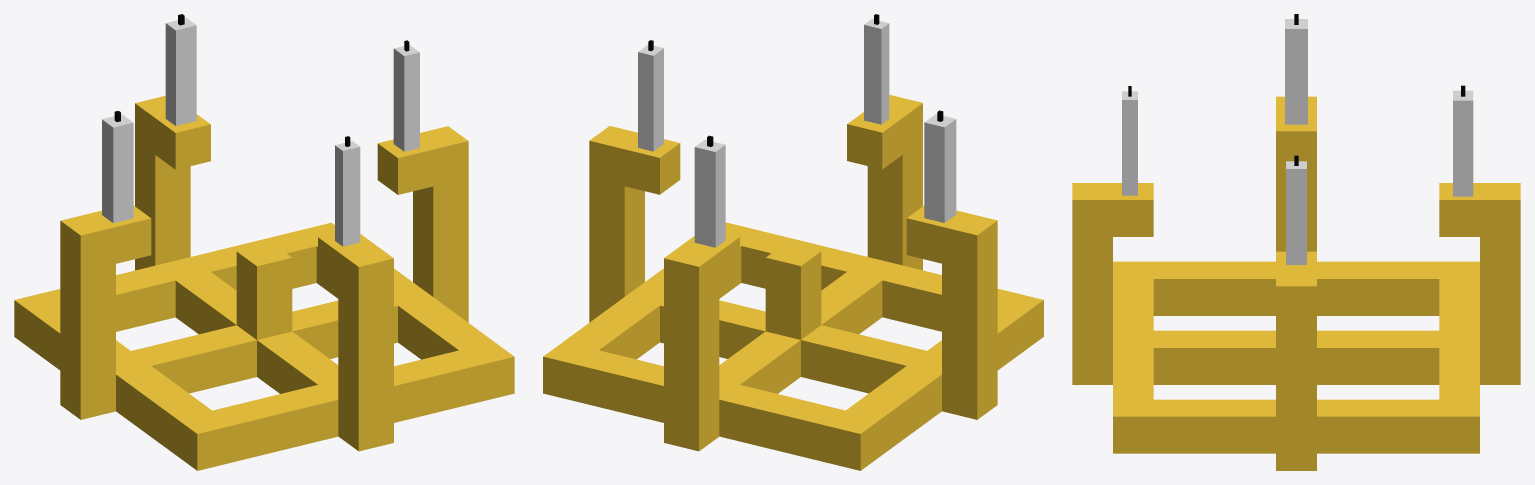
Rendered from candelabro fbx.fbx.
The picture shows the model from 3 angles, left to right: view 1: azimuth 30°, elevation 25°; view 2: azimuth 150°, elevation 25°; view 3: azimuth 270°, elevation 25°; orthographic projection.
Visible parts, largest first — view 1: candelabro; view 2: candelabro; view 3: candelabro.
Boxes of the visible parts, x1=… form: candelabro: x1=14, y1=14, x2=514, y2=470; candelabro: x1=543, y1=14, x2=1043, y2=470; candelabro: x1=1072, y1=14, x2=1520, y2=470.
Bounding box in the file's own units: 110 × 78.36 × 110.
